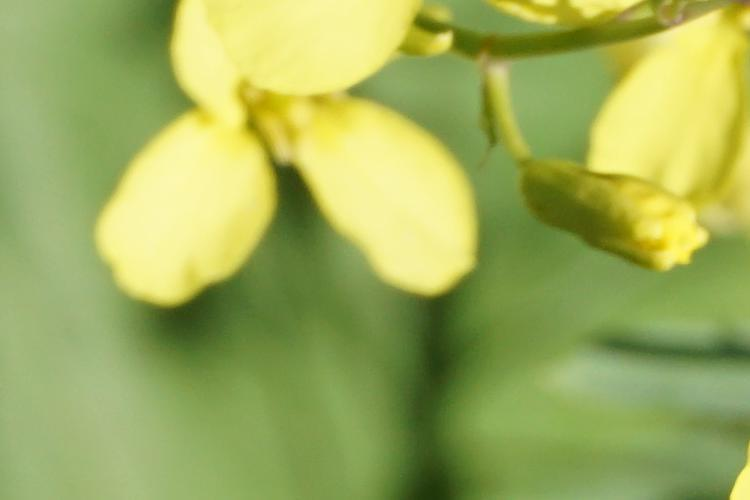bud: (497, 151, 721, 277)
yellow: (541, 5, 747, 215)
